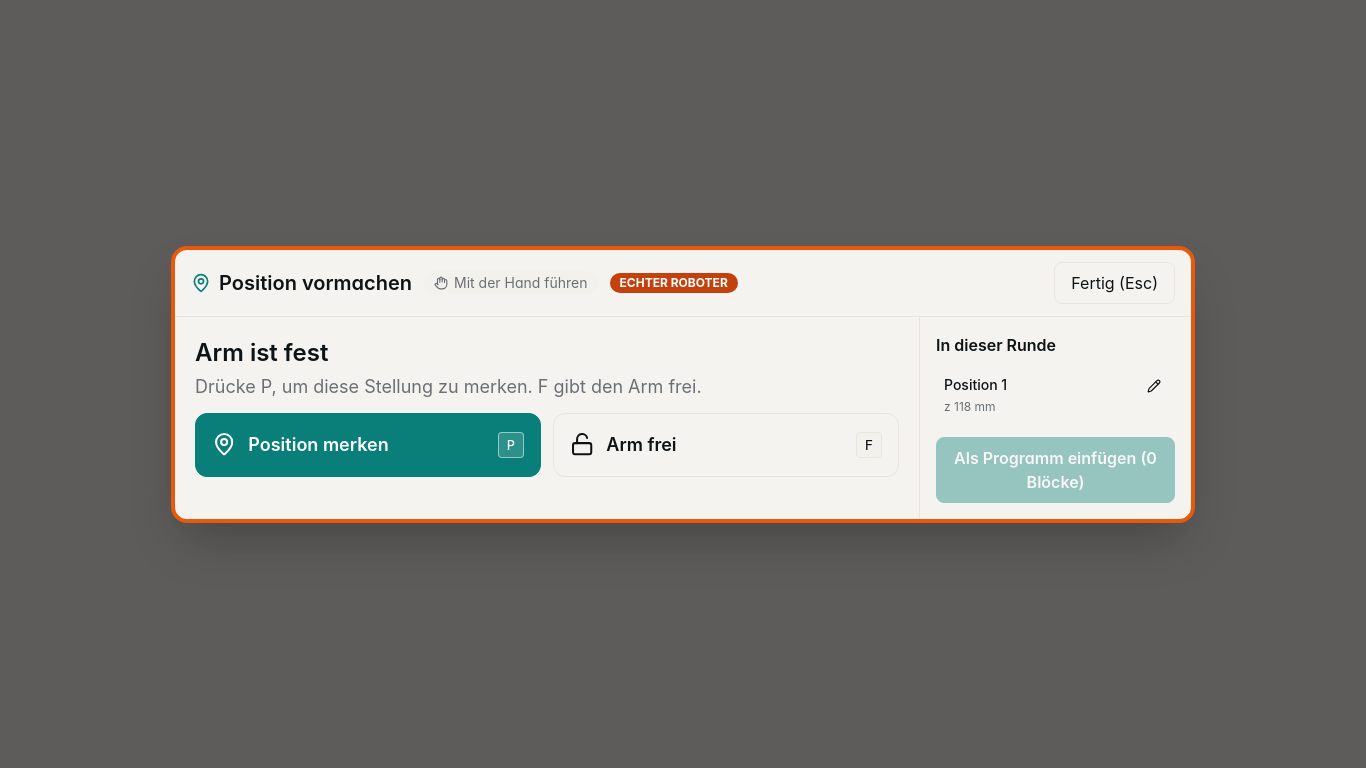
TeachOverlay — the summary and renaming (never while the arm is limp) › renaming a Position goes through renamePlace and relabels the row
Click the button named "Umbenennen: Position 1" at (1154, 384), box [1141,370,1167,398]
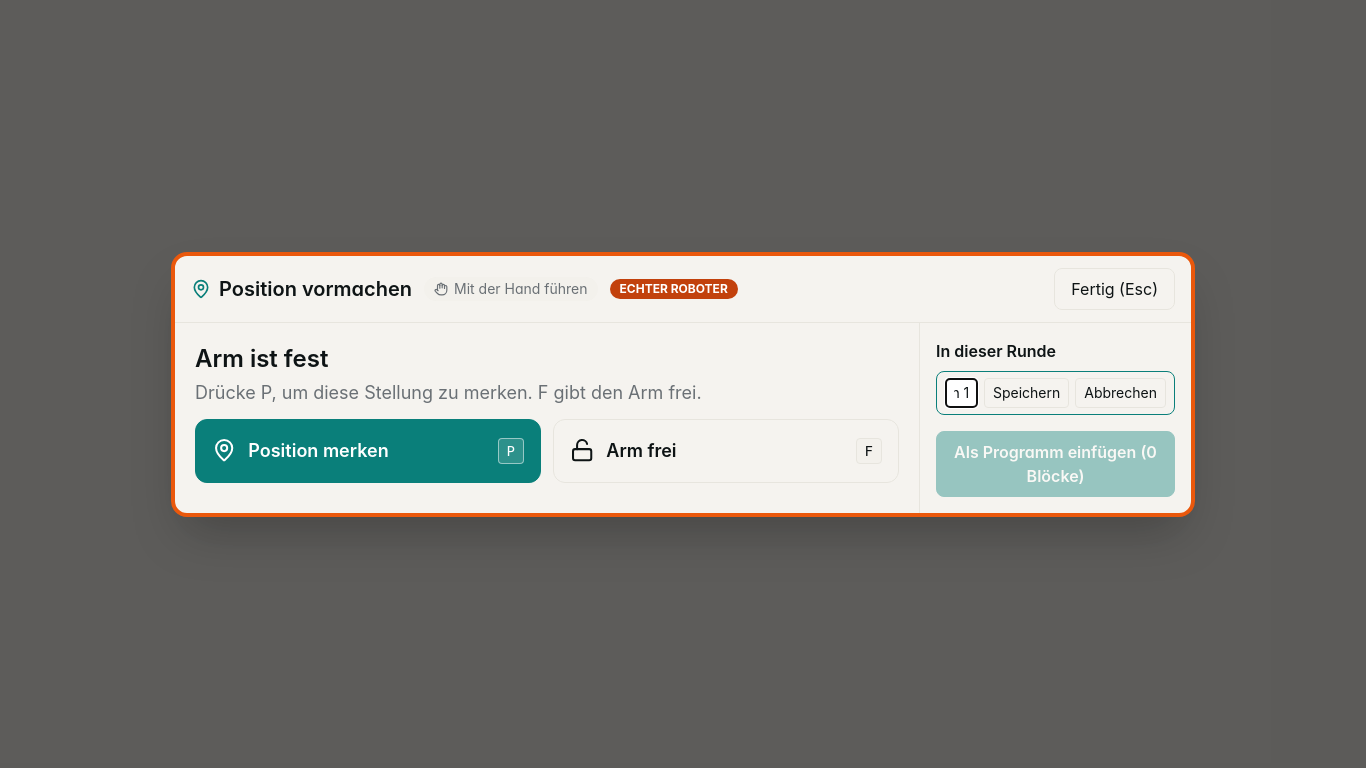
Replace the text in the field named "Name" with "Kiste!" at (962, 392), box [945,378,978,408]
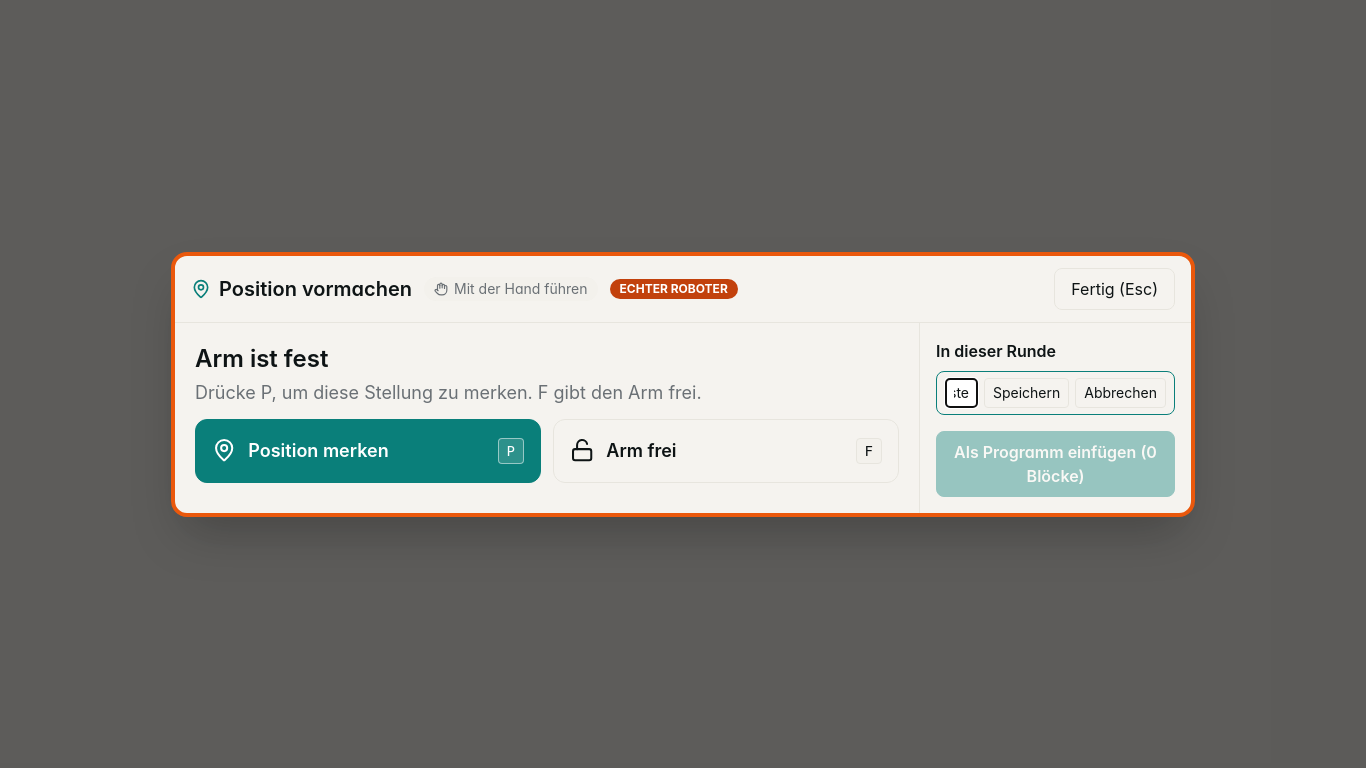
Click the button "Speichern" at (1027, 392), box [984,378,1069,408]
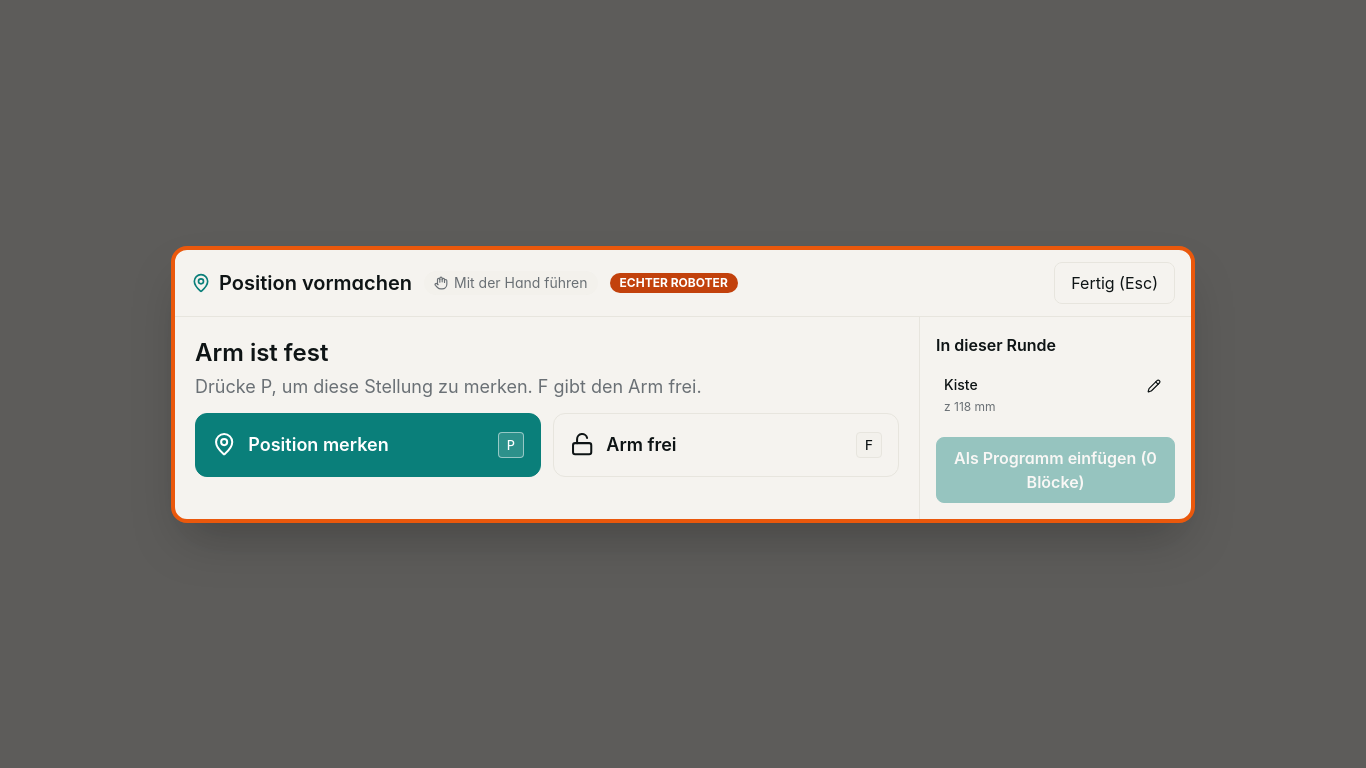
Expected: the text "Kiste" is shown, [944,376,978,392]
